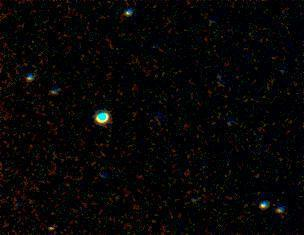star: (38, 212, 68, 235)
